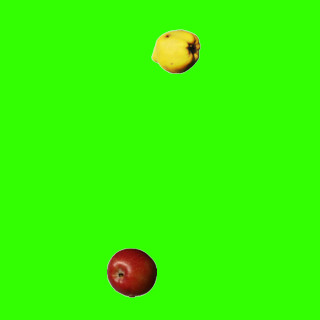Apple Braeburn: (106, 247, 156, 297)
Quince: (150, 26, 200, 76)
